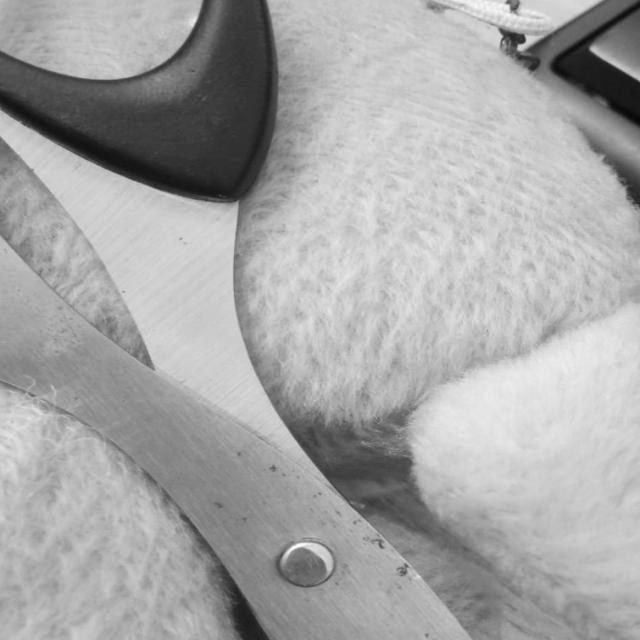tesoura: (0, 0, 472, 639)
